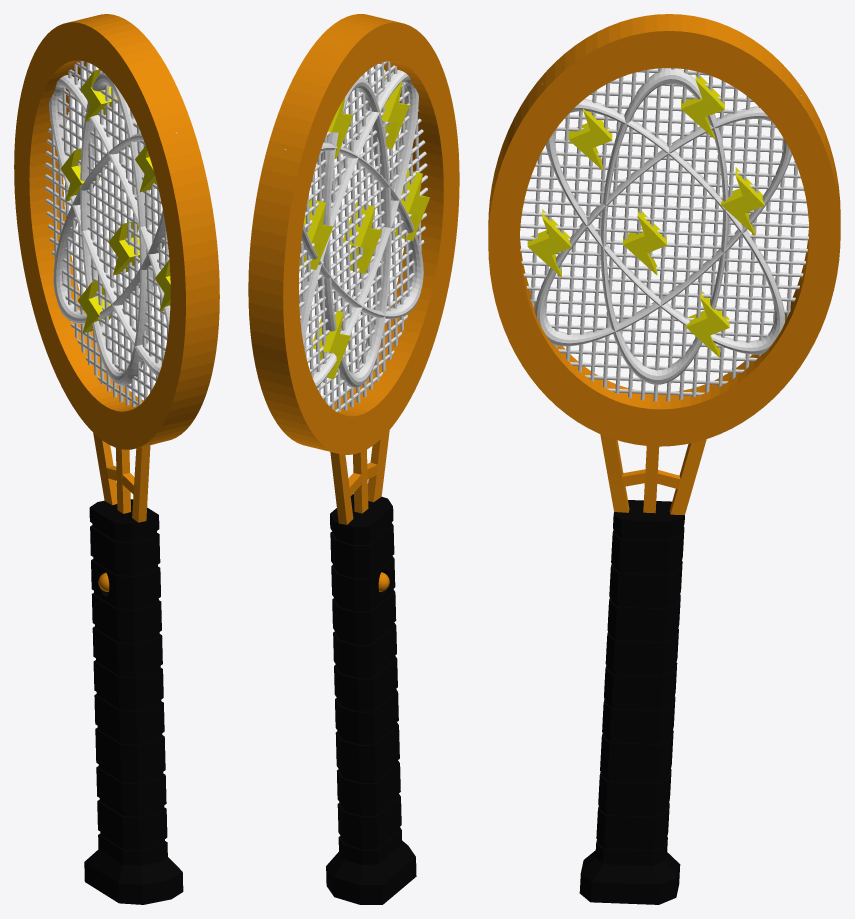
File: swatter_chess.glb
3 renders of one model, left to right at view 1: azimuth 30°, elevation 25°; view 2: azimuth 150°, elevation 25°; view 3: azimuth 270°, elevation 25°, orthographic. The views are drawn at different scales.
Parts seen in each view (by area): view 1: Circle, Cylinder.002, Cylinder, Torus.001, Cylinder.001, Torus, Cube.004, Cube.001, Cube.003, Cube.005, Cube, Cube.002; view 2: Circle, Cylinder.002, Cylinder, Torus.001, Cylinder.001, Torus, Cube.004, Cube.002, Cube.005, Cube.001, Cube, Cube.003; view 3: Circle, Cylinder.002, Cylinder, Cylinder.001, Torus.001, Torus, Cube.002, Cube.004, Cube, Cube.005, Cube.001, Cube.003.
Boxes of the visible parts, <box> form: Circle: <box>14,14,219,522</box>; Cylinder.002: <box>84,499,183,904</box>; Cylinder: <box>51,60,177,407</box>; Torus.001: <box>49,75,170,376</box>; Cylinder.001: <box>44,62,170,405</box>; Torus: <box>80,72,153,385</box>; Cube.004: <box>108,221,139,275</box>; Cube.001: <box>78,280,115,333</box>; Cube.003: <box>80,69,117,121</box>; Cube.005: <box>60,148,99,201</box>; Cube: <box>135,145,156,192</box>; Cube.002: <box>155,260,170,311</box>; Circle: <box>248,14,459,524</box>; Cylinder.002: <box>326,493,416,904</box>; Cylinder: <box>284,61,421,411</box>; Torus.001: <box>299,70,423,387</box>; Cylinder.001: <box>299,61,427,412</box>; Torus: <box>317,76,391,387</box>; Cube.004: <box>343,202,382,273</box>; Cube.002: <box>395,170,429,240</box>; Cube.005: <box>299,199,333,269</box>; Cube.001: <box>312,310,350,379</box>; Cube: <box>380,77,409,148</box>; Cube.003: <box>328,97,353,158</box>; Circle: <box>488,14,840,515</box>; Cylinder.002: <box>579,500,684,904</box>; Cylinder: <box>530,68,801,401</box>; Cylinder.001: <box>520,69,808,395</box>; Torus.001: <box>534,99,791,354</box>; Torus: <box>600,68,728,384</box>; Cube.002: <box>527,209,571,277</box>; Cube.004: <box>623,208,666,275</box>; Cube: <box>568,109,612,170</box>; Cube.005: <box>721,167,764,235</box>; Cube.001: <box>685,291,729,357</box>; Cube.003: <box>681,75,724,139</box>.
Bounding box in the file's own units: 0.1249 × 1.68 × 0.616.
